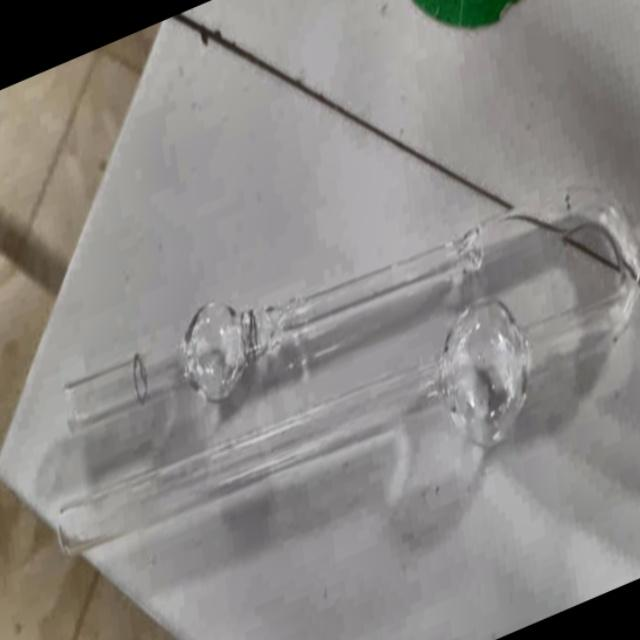Ostwald Viscometer: (29, 108, 640, 632)
